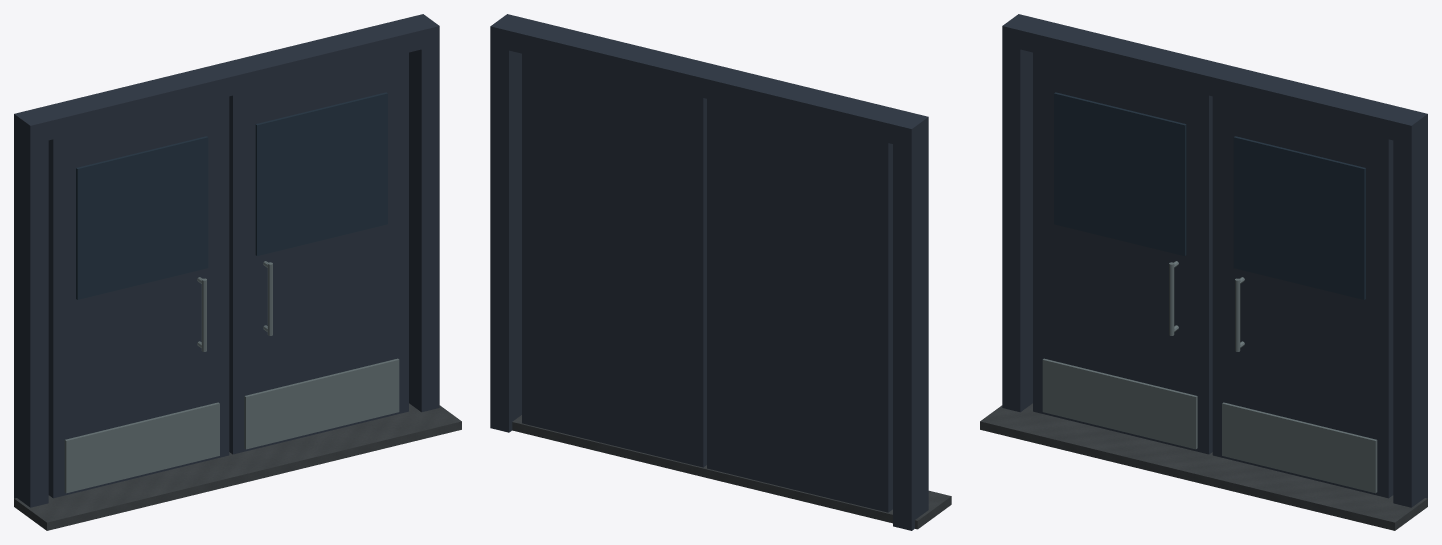
The model's file is entrance.glb.
3 views of the same model, side by side, from view 1: azimuth 30°, elevation 25°; view 2: azimuth 150°, elevation 25°; view 3: azimuth 330°, elevation 25° (orthographic). The views are drawn at different scales.
Parts seen in each view (by area): view 1: entrance_Steel, entrance_Glass, entrance_Trim, entrance_Concrete; view 2: entrance_Steel, entrance_Concrete; view 3: entrance_Steel, entrance_Glass, entrance_Trim, entrance_Concrete.
Boxes of the visible parts, left/top/right/bottom form: entrance_Steel: left=14, top=14, right=439, bottom=507; entrance_Glass: left=76, top=92, right=387, bottom=299; entrance_Trim: left=64, top=261, right=399, bottom=493; entrance_Concrete: left=14, top=403, right=461, bottom=530; entrance_Steel: left=490, top=14, right=928, bottom=530; entrance_Concrete: left=512, top=415, right=951, bottom=529; entrance_Steel: left=1002, top=14, right=1427, bottom=507; entrance_Glass: left=1054, top=92, right=1365, bottom=299; entrance_Trim: left=1042, top=261, right=1377, bottom=493; entrance_Concrete: left=980, top=403, right=1427, bottom=530.
Size of the model in its own units: 3.65 by 3.28 by 0.545.
Materials: 4 (1 with a texture image).
